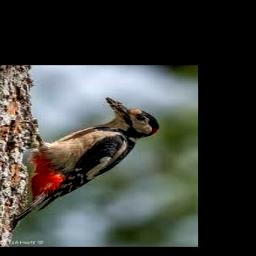Woodpecker: (10, 97, 159, 230)
